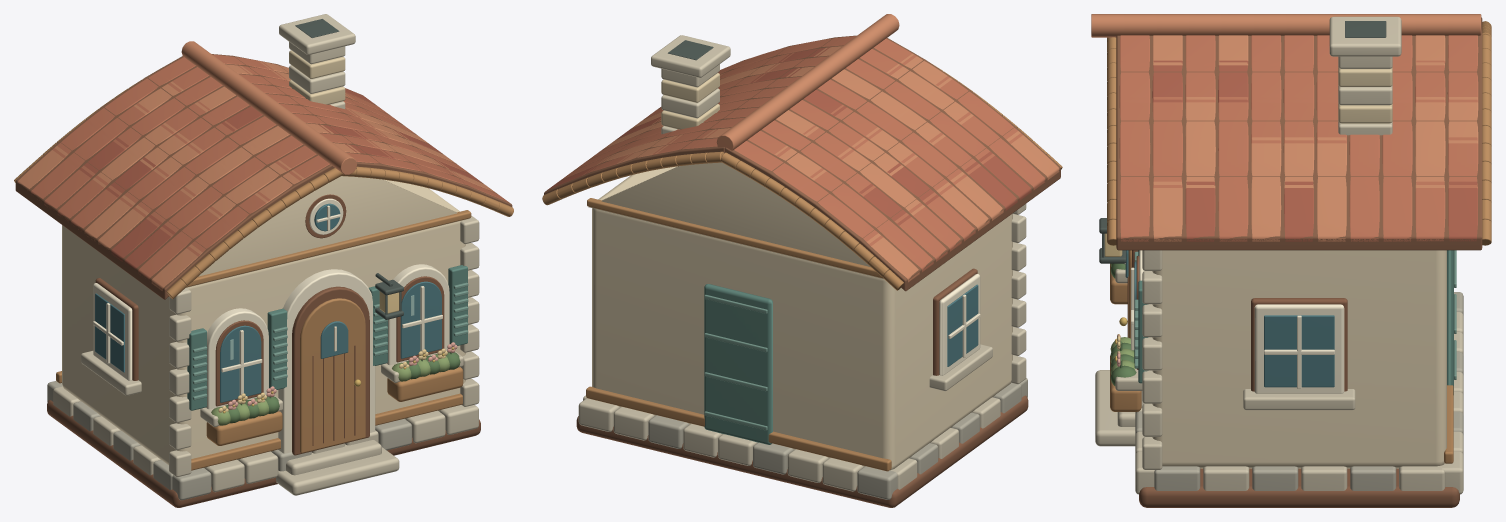
The model's file is cozy_cottage.glb.
The picture shows the model from 3 angles, left to right: view 1: azimuth 30°, elevation 25°; view 2: azimuth 150°, elevation 25°; view 3: azimuth 270°, elevation 25°; orthographic projection. The views are drawn at different scales.
Parts seen in each view (by area): view 1: Cottage_plaster, Cottage_roof, Cottage_stoneLight, Cottage_woodLight, Cottage_wood, Cottage_roofLight, Cottage_trim, Cottage_glass, Cottage_roofShade, Cottage_teal, Cottage_stone, Cottage_tealLight (+5 smaller); view 2: Cottage_plaster, Cottage_roof, Cottage_roofLight, Cottage_wood, Cottage_stoneLight, Cottage_woodLight, Cottage_teal, Cottage_stone, Cottage_roofShade, Cottage_trim, Cottage_glass, Cottage_plasterShade (+1 smaller); view 3: Cottage_plaster, Cottage_roof, Cottage_roofLight, Cottage_wood, Cottage_stoneLight, Cottage_roofShade, Cottage_woodLight, Cottage_glass, Cottage_trim, Cottage_stone, Cottage_plasterShade, Cottage_teal (+3 smaller).
Part boxes in pixels (x1=…): Cottage_plaster: x1=62, y1=176, x2=469, y2=468; Cottage_roof: x1=30, y1=54, x2=509, y2=279; Cottage_stoneLight: x1=53, y1=14, x2=479, y2=495; Cottage_woodLight: x1=14, y1=68, x2=513, y2=470; Cottage_wood: x1=15, y1=54, x2=512, y2=507; Cottage_roofLight: x1=17, y1=41, x2=495, y2=290; Cottage_trim: x1=93, y1=198, x2=449, y2=453; Cottage_glass: x1=95, y1=203, x2=441, y2=402; Cottage_roofShade: x1=79, y1=88, x2=482, y2=269; Cottage_teal: x1=187, y1=265, x2=467, y2=410; Cottage_stone: x1=47, y1=381, x2=411, y2=500; Cottage_tealLight: x1=192, y1=282, x2=468, y2=400; Cottage_plaster: x1=588, y1=162, x2=1012, y2=470; Cottage_roof: x1=561, y1=36, x2=1045, y2=271; Cottage_roofLight: x1=596, y1=14, x2=1059, y2=282; Cottage_wood: x1=544, y1=35, x2=1060, y2=507; Cottage_stoneLight: x1=578, y1=35, x2=1026, y2=491; Cottage_woodLight: x1=542, y1=63, x2=1062, y2=471; Cottage_teal: x1=704, y1=284, x2=772, y2=444; Cottage_stone: x1=648, y1=378, x2=1027, y2=499; Cottage_roofShade: x1=547, y1=47, x2=1031, y2=225; Cottage_trim: x1=939, y1=273, x2=980, y2=375; Cottage_glass: x1=947, y1=284, x2=978, y2=366; Cottage_plasterShade: x1=661, y1=73, x2=719, y2=129; Cottage_plaster: x1=1152, y1=250, x2=1446, y2=468; Cottage_roof: x1=1119, y1=35, x2=1478, y2=241; Cottage_roofLight: x1=1091, y1=14, x2=1481, y2=241; Cottage_wood: x1=1116, y1=17, x2=1482, y2=507; Cottage_stoneLight: x1=1095, y1=16, x2=1463, y2=494; Cottage_roofShade: x1=1152, y1=60, x2=1477, y2=241; Cottage_woodLight: x1=1107, y1=21, x2=1491, y2=463; Cottage_glass: x1=1125, y1=250, x2=1334, y2=387; Cottage_trim: x1=1124, y1=250, x2=1344, y2=407; Cottage_stone: x1=1135, y1=292, x2=1463, y2=490; Cottage_plasterShade: x1=1338, y1=66, x2=1392, y2=123; Cottage_teal: x1=1138, y1=250, x2=1453, y2=394.
Size of the model in its own units: 4.16 by 4.09 by 3.39.
